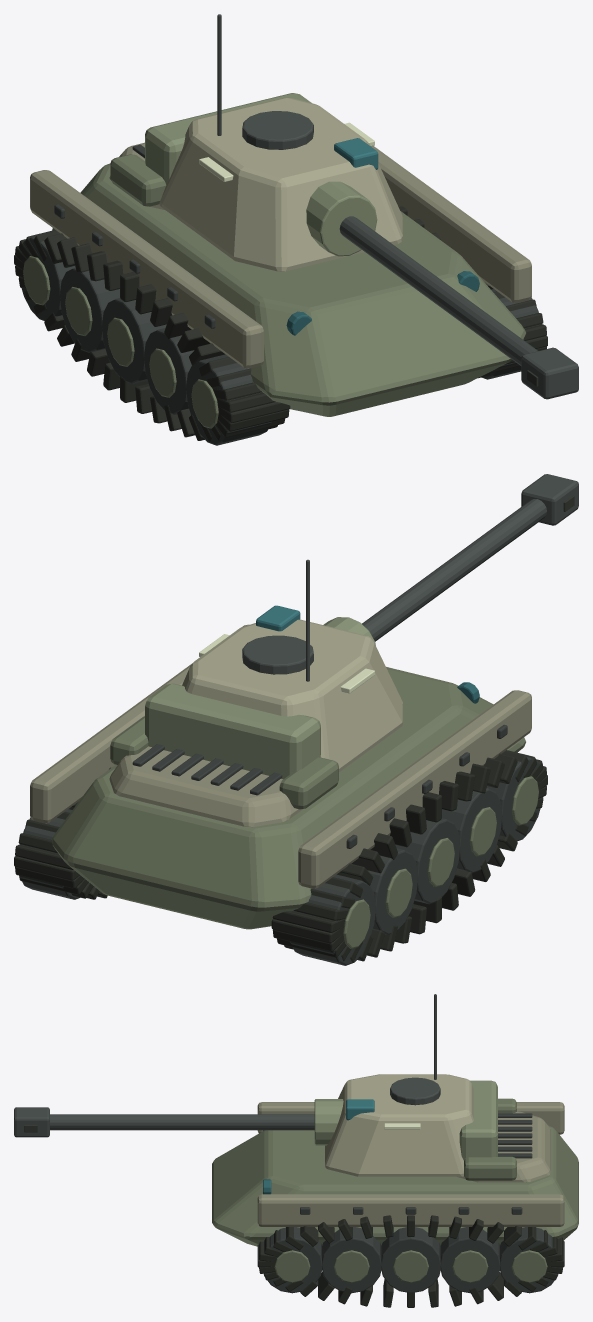
File: artillery.glb
The picture shows the model from 3 angles, top to bottom: view 1: azimuth 30°, elevation 25°; view 2: azimuth 150°, elevation 25°; view 3: azimuth 270°, elevation 25°; orthographic projection. The views are drawn at different scales.
Visible parts, largest first — view 1: Chassis, TurretArmor, GunAssembly; view 2: Chassis, TurretArmor, GunAssembly; view 3: Chassis, TurretArmor, GunAssembly.
Part boxes in pixels (box(x1,y1,x2,y2)): Chassis: box(14, 142, 547, 445); TurretArmor: box(145, 14, 402, 271); GunAssembly: box(306, 181, 578, 399); Chassis: box(14, 624, 547, 965); TurretArmor: box(145, 559, 402, 779); GunAssembly: box(323, 474, 578, 645); Chassis: box(212, 1098, 578, 1307); TurretArmor: box(325, 994, 497, 1176); GunAssembly: box(14, 1099, 343, 1145).
Size of the model in its own units: 2.49 by 2.54 by 5.34.
